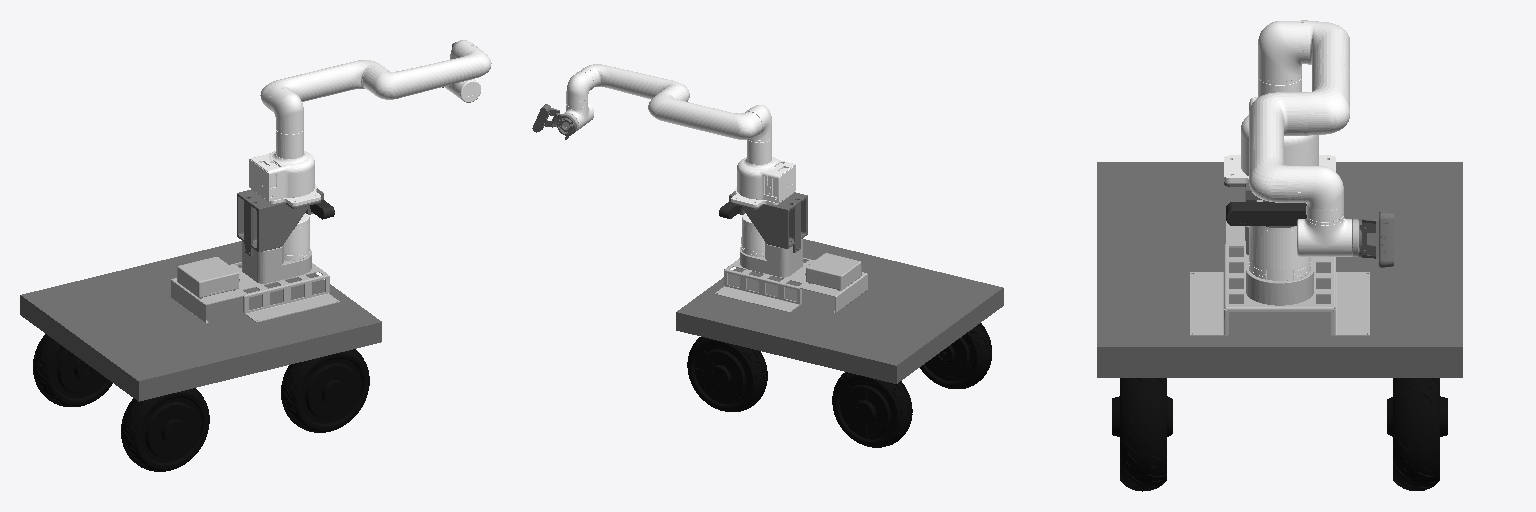
--- Render facts (derived) ---
The picture shows the robot from 3 angles, left to right: view 1: azimuth 30°, elevation 25°; view 2: azimuth 150°, elevation 25°; view 3: azimuth 270°, elevation 25°; orthographic projection.
Robot: airsbot2 — 51 links, 50 joints (12 revolute, 6 continuous, 32 fixed); root link base_footprint; default pose: all joints at 0.
Visible links, largest first — view 1: base_link, carrier_link, right_back_driven_wheel_link, right_front_driven_wheel_link, base, left_back_driven_wheel_link, link3, manipulator_base_link, link2, link1, lidar_link, link5; view 2: base_link, carrier_link, left_back_driven_wheel_link, left_front_driven_wheel_link, base, right_back_driven_wheel_link, link2, manipulator_base_link, link3, link4, lidar_link, link1; view 3: base_link, carrier_link, right_front_driven_wheel_link, left_front_driven_wheel_link, link3, link2, link1, lidar_link, base, link4, link5, zed2_camera_link (+2 smaller).
Link boxes in pixels (left/top/right/bottom): base_link: left=20, top=241, right=381, bottom=401; carrier_link: left=171, top=241, right=339, bottom=323; right_back_driven_wheel_link: left=121, top=388, right=209, bottom=471; right_front_driven_wheel_link: left=281, top=349, right=369, bottom=432; base: left=249, top=130, right=320, bottom=205; left_back_driven_wheel_link: left=33, top=334, right=112, bottom=406; link3: left=363, top=46, right=491, bottom=99; manipulator_base_link: left=237, top=188, right=323, bottom=256; link2: left=260, top=60, right=379, bottom=111; link1: left=269, top=87, right=303, bottom=134; lidar_link: left=284, top=213, right=309, bottom=260; link5: left=445, top=79, right=480, bottom=102; base_link: left=676, top=239, right=1003, bottom=383; carrier_link: left=715, top=239, right=867, bottom=312; left_back_driven_wheel_link: left=832, top=372, right=912, bottom=447; left_front_driven_wheel_link: left=687, top=337, right=767, bottom=411; base: left=731, top=139, right=795, bottom=206; right_back_driven_wheel_link: left=920, top=323, right=991, bottom=388; link2: left=648, top=91, right=761, bottom=139; manipulator_base_link: left=729, top=191, right=807, bottom=252; link3: left=581, top=64, right=689, bottom=101; link4: left=566, top=71, right=593, bottom=107; lidar_link: left=741, top=213, right=764, bottom=256; link1: left=745, top=105, right=771, bottom=142; base_link: left=1097, top=162, right=1462, bottom=377; carrier_link: left=1190, top=188, right=1369, bottom=335; right_front_driven_wheel_link: left=1112, top=378, right=1172, bottom=491; left_front_driven_wheel_link: left=1387, top=378, right=1447, bottom=490; link3: left=1249, top=92, right=1307, bottom=202; link2: left=1308, top=21, right=1349, bottom=135; link1: left=1258, top=20, right=1307, bottom=84; lidar_link: left=1249, top=226, right=1310, bottom=280; base: left=1224, top=78, right=1335, bottom=182; link4: left=1301, top=166, right=1343, bottom=221; link5: left=1297, top=216, right=1351, bottom=256; zed2_camera_link: left=1226, top=202, right=1306, bottom=225.
Size in the robot's own frame: 1.22 by 0.588 by 0.8291 metres.
Meshes: 21 distinct files referenced, 17 mesh visuals loaded (14 binary STL); not drawn: 7 (reference not matched to a file when rendering).

robot.urdf — airsbot2:
<?xml version="1.0" ?>
<!-- =================================================================================== -->
<!-- |    This document was autogenerated by xacro from airsbot2.urdf.xacro            | -->
<!-- |    EDITING THIS FILE BY HAND IS NOT RECOMMENDED                                 | -->
<!-- =================================================================================== -->
<robot name="airsbot2">
  <material name="black">
    <color rgba="0.0 0.0 0.0 1.0"/>
  </material>
  <material name="dark">
    <color rgba="0.3 0.3 0.3 1.0"/>
  </material>
  <material name="light_black">
    <color rgba="0.4 0.4 0.4 1.0"/>
  </material>
  <material name="blue">
    <color rgba="0.0 0.0 0.8 1.0"/>
  </material>
  <material name="green">
    <color rgba="0.0 0.8 0.0 1.0"/>
  </material>
  <material name="grey">
    <color rgba="0.5 0.5 0.5 1.0"/>
  </material>
  <material name="orange">
    <color rgba="1.0 0.4235 0.0392 1.0"/>
  </material>
  <material name="brown">
    <color rgba="0.8706 0.8118 0.7647 1.0"/>
  </material>
  <material name="red">
    <color rgba="0.8 0.0 0.0 1.0"/>
  </material>
  <material name="white">
    <color rgba="1.0 1.0 1.0 1.0"/>
  </material>
  <material name="zed2_mat">
    <color rgba="0.25 0.25 0.25 1.0"/>
  </material>
  <material name="zed2i_mat">
    <color rgba="0.25 0.25 0.25 1.0"/>
  </material>
  <material name="virtual_mat">
    <color rgba="0.25 0.25 0.25 1.0"/>
  </material>
  <material name="aluminum">
    <color rgba="0.5 0.5 0.5 1"/>
  </material>
  <material name="silver">
    <color rgba="0.8 0.8 0.8 1.0"/>
  </material>
  <material name="tire">
    <color rgba="0.1 0.1 0.1 1.0"/>
  </material>
  <link name="base_footprint"/>
  <joint name="base_joint" type="fixed">
    <parent link="base_footprint"/>
    <child link="base_link"/>
    <origin rpy="0.0 0.0 0.0" xyz="0.0 0.0 0.309"/>
  </joint>
  <link name="base_link">
    <visual>
      <origin rpy="0.0 0.0 0.0" xyz="0.0 0.0 -0.03"/>
      <geometry>
        <box size="0.7 0.588 0.056"/>
      </geometry>
      <material name="grey"/>
    </visual>
    <collision>
      <origin rpy="0.0 0.0 0.0" xyz="0.0 0.0 -0.03"/>
      <geometry>
        <box size="0.7 0.588 0.056"/>
      </geometry>
    </collision>
    <inertial>
      <origin rpy="0.0 0.0 0.0" xyz="0.0 0.0 -0.030"/>
      <mass value="30.0"/>
      <inertia ixx="7.8" ixy="0.0" ixz="0.0" iyy="7.8" iyz="0.0" izz="7.8"/>
    </inertial>
  </link>
  <joint name="left_front_driven_wheel_joint" type="continuous">
    <parent link="base_link"/>
    <child link="left_front_driven_wheel_link"/>
    <origin rpy="-1.5707963267948966 0.0 0.0" xyz="0.23 0.219 -0.182"/>
    <axis xyz="0.0 0.0 1.0"/>
    <limit effort="25.0" lower="-1e+16" upper="1e+16" velocity="75.36"/>
    <joint_properties damping="30.0" friction="110.0"/>
  </joint>
  <link name="left_front_driven_wheel_link">
    <visual>
      <origin rpy="0.0 0.0 0.0" xyz="0.0 0.0 0.0"/>
      <geometry>
        <mesh filename="package://airship_description/urdf/meshes/wheel.stl" scale="0.001 0.001 0.001"/>
      </geometry>
      <material name="tire"/>
    </visual>
    <collision>
      <origin rpy="0.0 0.0 0.0" xyz="0.0 0.0 0.0"/>
      <geometry>
        <cylinder length="0.075" radius="0.120"/>
      </geometry>
    </collision>
    <inertial>
      <origin xyz="0.0 0.0 0.0"/>
      <mass value="7.15"/>
      <inertia ixx="0.11042056" ixy="0.0" ixz="0.0" iyy="0.11042056" iyz="0.0" izz="0.11042056"/>
    </inertial>
  </link>
  <joint name="left_back_driven_wheel_joint" type="continuous">
    <parent link="base_link"/>
    <child link="left_back_driven_wheel_link"/>
    <origin rpy="-1.5707963267948966 0.0 0.0" xyz="-0.23 0.219 -0.182"/>
    <axis xyz="0.0 0.0 1.0"/>
    <limit effort="25.0" lower="-1e+16" upper="1e+16" velocity="75.36"/>
    <joint_properties damping="30.0" friction="110.0"/>
  </joint>
  <link name="left_back_driven_wheel_link">
    <visual>
      <origin rpy="0.0 0.0 0.0" xyz="0.0 0.0 0.0"/>
      <geometry>
        <mesh filename="package://airship_description/urdf/meshes/wheel.stl" scale="0.001 0.001 0.001"/>
      </geometry>
      <material name="tire"/>
    </visual>
    <collision>
      <origin rpy="0.0 0.0 0.0" xyz="0.0 0.0 0.0"/>
      <geometry>
        <cylinder length="0.075" radius="0.120"/>
      </geometry>
    </collision>
    <inertial>
      <origin xyz="0.0 0.0 0.0"/>
      <mass value="7.15"/>
      <inertia ixx="0.11042056" ixy="0.0" ixz="0.0" iyy="0.11042056" iyz="0.0" izz="0.11042056"/>
    </inertial>
  </link>
  <joint name="right_front_driven_wheel_joint" type="continuous">
    <parent link="base_link"/>
    <child link="right_front_driven_wheel_link"/>
    <origin rpy="-1.5707963267948966 0.0 0.0" xyz="0.23 -0.219 -0.182"/>
    <axis xyz="0.0 0.0 1.0"/>
    <limit effort="25.0" lower="-1e+16" upper="1e+16" velocity="75.36"/>
    <joint_properties damping="30.0" friction="110.0"/>
  </joint>
  <link name="right_front_driven_wheel_link">
    <visual>
      <origin rpy="0.0 3.141592653589793 0.0" xyz="0.0 0.0 0.0"/>
      <geometry>
        <mesh filename="package://airship_description/urdf/meshes/wheel.stl" scale="0.001 0.001 0.001"/>
      </geometry>
      <material name="tire"/>
    </visual>
    <collision>
      <origin rpy="0.0 0.0 0.0" xyz="0.0 0.0 0.0"/>
      <geometry>
        <cylinder length="0.075" radius="0.120"/>
      </geometry>
    </collision>
    <inertial>
      <origin xyz="0.0 0.0 0.0"/>
      <mass value="7.15"/>
      <inertia ixx="0.11042056" ixy="0.0" ixz="0.0" iyy="0.11042056" iyz="0.0" izz="0.11042056"/>
    </inertial>
  </link>
  <joint name="right_back_driven_wheel_joint" type="continuous">
    <parent link="base_link"/>
    <child link="right_back_driven_wheel_link"/>
    <origin rpy="-1.5707963267948966 0.0 0.0" xyz="-0.23 -0.219 -0.182"/>
    <axis xyz="0.0 0.0 1.0"/>
    <limit effort="25.0" lower="-1e+16" upper="1e+16" velocity="75.36"/>
    <joint_properties damping="30.0" friction="110.0"/>
  </joint>
  <link name="right_back_driven_wheel_link">
    <visual>
      <origin rpy="0.0 3.141592653589793 0.0" xyz="0.0 0.0 0.0"/>
      <geometry>
        <mesh filename="package://airship_description/urdf/meshes/wheel.stl" scale="0.001 0.001 0.001"/>
      </geometry>
      <material name="tire"/>
    </visual>
    <collision>
      <origin rpy="0.0 0.0 0.0" xyz="0.0 0.0 0.0"/>
      <geometry>
        <cylinder length="0.075" radius="0.120"/>
      </geometry>
    </collision>
    <inertial>
      <origin xyz="0.0 0.0 0.0"/>
      <mass value="7.15"/>
      <inertia ixx="0.11042056" ixy="0.0" ixz="0.0" iyy="0.11042056" iyz="0.0" izz="0.11042056"/>
    </inertial>
  </link>
  <joint name="right_driving_wheel_joint" type="continuous">
    <parent link="base_link"/>
    <child link="right_driving_wheel_link"/>
    <origin rpy="-1.5707963267948966 0.0 0.0" xyz="0.0 -0.219 -0.182"/>
    <axis xyz="0.0 0.0 1.0"/>
    <limit effort="25.0" lower="-1e+16" upper="1e+16" velocity="75.36"/>
    <joint_properties damping="30.0" friction="110.0"/>
  </joint>
  <link name="right_driving_wheel_link">
    <collision>
      <origin rpy="0.0 0.0 0.0" xyz="0.0 0.0 0.0"/>
      <geometry>
        <cylinder length="0.075" radius="0.1205"/>
      </geometry>
    </collision>
    <inertial>
      <origin xyz="0.0 0.0 0.0"/>
      <mass value="7.15"/>
      <inertia ixx="0.11042056" ixy="0.0" ixz="0.0" iyy="0.11042056" iyz="0.0" izz="0.11042056"/>
    </inertial>
  </link>
  <joint name="left_driving_wheel_joint" type="continuous">
    <parent link="base_link"/>
    <child link="left_driving_wheel_link"/>
    <origin rpy="-1.5707963267948966 0.0 0.0" xyz="0.0 0.219 -0.182"/>
    <axis xyz="0.0 0.0 1.0"/>
    <limit effort="25.0" lower="-1e+16" upper="1e+16" velocity="75.36"/>
    <joint_properties damping="30.0" friction="110.0"/>
  </joint>
  <link name="left_driving_wheel_link">
    <collision>
      <origin rpy="0.0 0.0 0.0" xyz="0.0 0.0 0.0"/>
      <geometry>
        <cylinder length="0.075" radius="0.1205"/>
      </geometry>
    </collision>
    <inertial>
      <origin xyz="0.0 0.0 0.0"/>
      <mass value="7.15"/>
      <inertia ixx="0.11042056" ixy="0.0" ixz="0.0" iyy="0.11042056" iyz="0.0" izz="0.11042056"/>
    </inertial>
  </link>
  <joint name="imu_joint" type="fixed">
    <parent link="base_link"/>
    <child link="imu_link"/>
    <origin rpy="0.0 0.0 0.0" xyz="0.255 0.0 0.033"/>
  </joint>
  <link name="imu_link"/>
  <joint name="lidar_joint" type="fixed">
    <parent link="base_link"/>
    <child link="lidar_link"/>
    <origin rpy="0.0 0.0 0.0" xyz="0.255 0.0 0.156"/>
  </joint>
  <link name="lidar_link">
    <visual>
      <origin rpy="0.0 0.0 0.0" xyz="0.0 0.0 0.0"/>
      <geometry>
        <mesh filename="package://airship_description/urdf/meshes/Helios_Lede_20220314.stl" scale="0.001 0.001 0.001"/>
      </geometry>
      <material name="white"/>
    </visual>
    <collision>
      <origin rpy="0.0 0.0 0.0" xyz="0.0 0.0 0.0"/>
      <geometry>
        <mesh filename="package://airship_description/urdf/meshes/Helios_Lede_20220314.stl" scale="0.001 0.001 0.001"/>
      </geometry>
    </collision>
    <inertial>
      <origin xyz="0.0 0.0 0.0"/>
      <mass value="0.5"/>
      <inertia ixx="0.11042056" ixy="0.0" ixz="0.0" iyy="0.11042056" iyz="0.0" izz="0.11042056"/>
    </inertial>
  </link>
  <joint name="lidar_optical_joint" type="fixed">
    <parent link="lidar_link"/>
    <child link="rslidar"/>
    <origin rpy="0.0 0.0 0.0" xyz="0.0 0.0 0.0"/>
  </joint>
  <link name="rslidar"/>
  <link name="front_camera_link"/>
  <joint name="zed_camera_joint" type="fixed">
    <parent link="base_link"/>
    <child link="front_camera_link"/>
    <origin rpy="0.0 0.0 0.0" xyz="0.320 0.0 0.203"/>
  </joint>
  <joint name="zed2_camera_joint" type="fixed">
    <origin rpy="0 0 0" xyz="0 0 0"/>
    <parent link="front_camera_link"/>
    <child link="zed2_camera_link"/>
  </joint>
  <!-- Camera mounting point (the threaded screw hole in the bottom) -->
  <link name="zed2_camera_link">
    <visual>
      <origin rpy="0 0 0" xyz="0 0 0"/>
      <geometry>
        <mesh filename="package://airship_description/urdf/meshes/ZED2.stl" scale="0.001 0.001 0.001"/>
      </geometry>
      <material name="zed2_mat"/>
    </visual>
    <inertial>
      <mass value="0.0564"/>
      <origin xyz="0 0 0"/>
      <inertia ixx="0.003881243" ixy="0.0" ixz="0.0" iyy="0.000498940" iyz="0.0" izz="0.003879257"/>
    </inertial>
  </link>
  <!-- Camera Center -->
  <link name="zed2_camera_center">
    </link>
  <joint name="zed2_camera_center_joint" type="fixed">
    <parent link="zed2_camera_link"/>
    <child link="zed2_camera_center"/>
    <origin rpy="0 0.05 0" xyz="0 0 0.015"/>
  </joint>
  <!-- Left Camera -->
  <link name="zed2_left_camera_frame">
    </link>
  <joint name="zed2_left_camera_joint" type="fixed">
    <parent link="zed2_camera_center"/>
    <child link="zed2_left_camera_frame"/>
    <origin rpy="0 0 0" xyz="-0.01 0.06 0"/>
  </joint>
  <link name="zed2_left_camera_optical_frame"/>
  <joint name="zed2_left_camera_optical_joint" type="fixed">
    <origin rpy="-1.5707963267948966 0.0 -1.5707963267948966" xyz="0 0 0"/>
    <parent link="zed2_left_camera_frame"/>
    <child link="zed2_left_camera_optical_frame"/>
  </joint>
  <!-- Right Camera -->
  <link name="zed2_right_camera_frame">
    </link>
  <joint name="zed2_right_camera_joint" type="fixed">
    <parent link="zed2_camera_center"/>
    <child link="zed2_right_camera_frame"/>
    <origin rpy="0 0 0" xyz="-0.01 -0.06 0"/>
  </joint>
  <link name="zed2_right_camera_optical_frame"/>
  <joint name="zed2_right_camera_optical_joint" type="fixed">
    <origin rpy="-1.5707963267948966 0.0 -1.5707963267948966" xyz="0 0 0"/>
    <parent link="zed2_right_camera_frame"/>
    <child link="zed2_right_camera_optical_frame"/>
  </joint>
  <link name="zed2_mag_link"/>
  <joint name="zed2_mag_joint" type="fixed">
    <parent link="zed2_camera_center"/>
    <child link="zed2_mag_link"/>
    <origin rpy="0 0 0" xyz="0 0 0"/>
  </joint>
  <link name="zed2_baro_link"/>
  <joint name="zed2_baro_joint" type="fixed">
    <parent link="zed2_camera_center"/>
    <child link="zed2_baro_link"/>
    <origin rpy="0 0 0" xyz="0 0 0"/>
  </joint>
  <link name="zed2_temp_left_link"/>
  <joint name="zed2_temp_left_joint" type="fixed">
    <parent link="zed2_left_camera_frame"/>
    <child link="zed2_temp_left_link"/>
    <origin rpy="0 0 0" xyz="0 0 0"/>
  </joint>
  <link name="zed2_temp_right_link"/>
  <joint name="zed2_temp_right_joint" type="fixed">
    <parent link="zed2_right_camera_frame"/>
    <child link="zed2_temp_right_link"/>
    <origin rpy="0 0 0" xyz="0 0 0"/>
  </joint>
  <joint name="carrier_joint" type="fixed">
    <parent link="base_link"/>
    <child link="carrier_link"/>
    <origin rpy="0.0 0.0 0.0" xyz="0.255 0.0 0.033"/>
  </joint>
  <link name="carrier_link">
    <visual>
      <origin rpy="0.0 0.0 0.0" xyz="0.0 0.0 0.0"/>
      <geometry>
        <mesh filename="package://airship_description/urdf/meshes/carrier.stl" scale="0.001 0.001 0.001"/>
      </geometry>
      <material name="silver"/>
    </visual>
    <collision>
      <origin rpy="0.0 0.0 0.0" xyz="0.0 0.0 0.0"/>
      <geometry>
        <mesh filename="package://airship_description/urdf/meshes/carrier.stl" scale="0.001 0.001 0.001"/>
      </geometry>
    </collision>
    <inertial>
      <origin xyz="0.0 0.0 0.0"/>
      <mass value="0.1"/>
      <inertia ixx="0.11042056" ixy="0.0" ixz="0.0" iyy="0.11042056" iyz="0.0" izz="0.11042056"/>
    </inertial>
  </link>
  <joint name="manipulator_base_joint" type="fixed">
    <parent link="base_link"/>
    <child link="manipulator_base_link"/>
    <origin rpy="0.0 0.0 0.0" xyz="0.255 0.0 0.262"/>
  </joint>
  <link name="manipulator_base_link">
    <visual>
      <origin rpy="0.0 0.0 0.0" xyz="0.0 0.0 0.0"/>
      <geometry>
        <mesh filename="package://airship_description/urdf/meshes/manipulator_base.stl" scale="0.001 0.001 0.001"/>
      </geometry>
      <material name="grey"/>
    </visual>
    <collision>
      <origin rpy="0.0 0.0 0.0" xyz="0.0 0.0 0.0"/>
      <geometry>
        <mesh filename="package://airship_description/urdf/meshes/manipulator_base.stl" scale="0.001 0.001 0.001"/>
      </geometry>
    </collision>
    <inertial>
      <origin xyz="0.0 0.0 0.0"/>
      <mass value="0.1"/>
      <inertia ixx="0.11042056" ixy="0.0" ixz="0.0" iyy="0.11042056" iyz="0.0" izz="0.11042056"/>
    </inertial>
  </link>
  <link name="base">
    <visual>
      <geometry>
        <mesh filename="package://airship_description/urdf/meshes//arm_base.stl" scale="0.001 0.001 0.001"/>
      </geometry>
      <origin rpy="1.5707963267948966 0.0 0.0" xyz="0.0 0.0 0.0"/>
      <material name="white"/>
    </visual>
    <collision>
      <geometry>
        <mesh filename="package://airship_description/urdf/meshes//arm_base.stl" scale="0.001 0.001 0.001"/>
      </geometry>
      <origin rpy="1.5707963267948966 0.0 0.0" xyz="0.0 0.0 0.0"/>
    </collision>
    <inertial>
      <origin rpy="0.0 0.0 0.0" xyz="0.0 0.0 0.050"/>
      <mass value="0.01"/>
      <inertia ixx="7.8" ixy="0.0" ixz="0.0" iyy="7.8" iyz="0.0" izz="7.8"/>
    </inertial>
  </link>
  <joint name="joint_base_to_manipulator_base_link" type="fixed">
    <parent link="manipulator_base_link"/>
    <child link="base"/>
    <origin rpy="0.0 0.0 0.0" xyz="0.0 0.0 0.0"/>
  </joint>
  <!-- Link 1 -->
  <link name="link1">
    <visual>
      <geometry>
        <mesh filename="package://airship_description/urdf/meshes//link1.stl" scale="0.001 0.001 0.001"/>
      </geometry>
      <origin rpy="0.0 0.0 3.141592653589793" xyz="0.0 0.0 -0.06"/>
      <material name="white"/>
    </visual>
    <collision>
      <geometry>
        <mesh filename="package://airship_description/urdf/meshes//link1.stl" scale="0.001 0.001 0.001"/>
      </geometry>
      <origin rpy="0.0 0.0 3.141592653589793" xyz="0.0 0.0 -0.06"/>
    </collision>
    <inertial>
      <origin rpy="0.0 0.0 0.0" xyz="0.0 0.0 -0.115"/>
      <mass value="0.01"/>
      <inertia ixx="7.8" ixy="0.0" ixz="0.0" iyy="7.8" iyz="0.0" izz="7.8"/>
    </inertial>
  </link>
  <joint name="joint_link1_to_base" type="revolute">
    <axis xyz="0.0 0.0 1.0"/>
    <parent link="base"/>
    <child link="link1"/>
    <origin rpy="0.0 0.0 0.0" xyz="0.0 0.0 0.22934"/>
    <dynamics damping="52.0"/>
    <limit effort="1000.0" lower="-3.141592653589793" upper="3.141592653589793" velocity="0"/>
  </joint>
  <!-- Link 2 -->
  <link name="link2">
    <visual>
      <geometry>
        <mesh filename="package://airship_description/urdf/meshes//link2.stl" scale="0.001 0.001 0.001"/>
      </geometry>
      <origin rpy="0.0 -1.5707963267948966 -1.5707963267948966" xyz="0.0 0.0 -0.0446"/>
      <material name="white"/>
    </visual>
    <collision>
      <geometry>
        <mesh filename="package://airship_description/urdf/meshes//link2.stl" scale="0.001 0.001 0.001"/>
      </geometry>
      <origin rpy="0.0 -1.5707963267948966 -1.5707963267948966" xyz="0.0 0.0 -0.0446"/>
    </collision>
    <inertial>
      <origin rpy="0.0 0.0 0.0" xyz="0.0 0.0 0.0"/>
      <mass value="0.01"/>
      <inertia ixx="7.8" ixy="0.0" ixz="0.0" iyy="7.8" iyz="0.0" izz="7.8"/>
    </inertial>
  </link>
  <joint name="joint_link2_to_link1" type="revolute">
    <axis xyz="0.0 0.0 -1.0"/>
    <parent link="link1"/>
    <child link="link2"/>
    <origin rpy="1.5707963267948966 0.0 0.0" xyz="0.0 0.0 0.0"/>
    <dynamics damping="52.0"/>
    <limit effort="1000.0" lower="-4.71238898038469" upper="1.5707963267948966" velocity="0.0"/>
  </joint>
  <!-- Link 3 -->
  <link name="link3">
    <visual>
      <geometry>
        <mesh filename="package://airship_description/urdf/meshes//link3.stl" scale="0.001 0.001 0.001"/>
      </geometry>
      <origin rpy="0 1.5707963267948966 -1.5707963267948966" xyz="0.0 0.0 -0.0444"/>
      <material name="white"/>
    </visual>
    <collision>
      <geometry>
        <mesh filename="package://airship_description/urdf/meshes//link3.stl" scale="0.001 0.001 0.001"/>
      </geometry>
      <origin rpy="0.0 1.5707963267948966 -1.5707963267948966" xyz="0.0 0.0 -0.0444"/>
    </collision>
    <inertial>
      <origin rpy="0.0 0.0 0.0" xyz="-0.135 0 -0.08"/>
      <mass value="0.01"/>
      <inertia ixx="7.8" ixy="0.0" ixz="0" iyy="7.8" iyz="0.0" izz="7.8"/>
    </inertial>
  </link>
  <joint name="joint_link3_to_link2" type="revolute">
    <axis xyz="0.0 0.0 -1.0"/>
    <parent link="link2"/>
    <child link="link3"/>
    <origin rpy="0.0 0.0 0.0" xyz="0.27 0.0 0.0"/>
    <dynamics damping="52.0"/>
    <limit effort="1000.0" lower="-2.607521902479528" upper="2.607521902479528" velocity="0.0"/>
  </joint>
  <!-- Link 4 -->
  <link name="link4">
    <visual>
      <geometry>
        <mesh filename="package://airship_description/urdf/meshes//link4.stl" scale="0.001 0.001 0.001"/>
      </geometry>
      <origin rpy="-1.5707963267948966 0.0 1.5707963267948966" xyz="0.0 0.0 0.041"/>
      <material name="white"/>
    </visual>
    <collision>
      <geometry>
        <mesh filename="package://airship_description/urdf/meshes//link4.stl" scale="0.001 0.001 0.001"/>
      </geometry>
      <origin rpy="-1.5707963267948966 0.0 1.5707963267948966" xyz="0.0 0.0 0.041"/>
    </collision>
    <inertial>
      <origin rpy="0.0 0.0 0.0" xyz="-0.134 0 0.09"/>
      <mass value="0.01"/>
      <inertia ixx="7.8" ixy="0.0" ixz="0" iyy="7.8" iyz="0.0" izz="7.8"/>
    </inertial>
  </link>
  <joint name="joint_link4_to_link3" type="revolute">
    <axis xyz="0.0 0.0 -1.0"/>
    <parent link="link3"/>
    <child link="link4"/>
    <origin rpy="0.0 0.0 0.0" xyz="0.267 0.0 -0.0745"/>
    <dynamics damping="52.0"/>
    <limit effort="1000.0" lower="-4.523893421169302" upper="1.382300767579509" velocity="0.0"/>
  </joint>
  <!-- Link 5 -->
  <link name="link5">
    <visual>
      <geometry>
        <mesh filename="package://airship_description/urdf/meshes//link5.stl" scale="0.001 0.001 0.001"/>
      </geometry>
      <origin rpy="0.0 -1.5707963267948966 3.141592653589793" xyz="-0.043 0.0 0.0"/>
      <material name="white"/>
    </visual>
    <collision>
      <geometry>
        <mesh filename="package://airship_description/urdf/meshes//link5.stl" scale="0.001 0.001 0.001"/>
      </geometry>
      <origin rpy="0 -1.5707963267948966 3.141592653589793" xyz="-0.043 0.0 0.0"/>
    </collision>
    <inertial>
      <origin rpy="0.0 0.0 0.0" xyz="0.0 0.0 0.0"/>
      <mass value="0.01"/>
      <inertia ixx="7.8" ixy="0.0" ixz="0" iyy="7.8" iyz="0.0" izz="7.8"/>
    </inertial>
  </link>
  <joint name="joint_link5_to_link4" type="revolute">
    <axis xyz="0.0 0.0 1.0"/>
    <parent link="link4"/>
    <child link="link5"/>
    <origin rpy="1.5707963267948966 -1.5707963267948966 0.0" xyz="0.0 -0.095 0.002"/>
    <dynamics damping="52.0"/>
    <limit effort="1000.0" lower="-2.921681167838508" upper="2.921681167838508" velocity="0.0"/>
  </joint>
  <!-- Link 6 -->
  <link name="link6">
    <visual>
      <geometry>
        <mesh filename="package://airship_description/urdf/meshes//link6.stl" scale="0.001 0.001 0.001"/>
      </geometry>
      <origin rpy="0.0 1.5707963267948966 0.0" xyz="0.01 0.0 0.0"/>
      <material name="silver"/>
    </visual>
    <collision>
      <geometry>
        <mesh filename="package://airship_description/urdf/meshes//link6.stl" scale="0.001 0.001 0.001"/>
      </geometry>
      <origin rpy="0.0 1.5707963267948966 0.0" xyz="0.01 0.0 0.0"/>
    </collision>
    <inertial>
      <origin rpy="0.0 0.0 0.0" xyz="0.0 0.0 0.0"/>
      <mass value="0.01"/>
      <inertia ixx="7.8" ixy="0.0" ixz="0" iyy="7.8" iyz="0.0" izz="7.8"/>
    </inertial>
  </link>
  <joint name="joint_link6_to_link5" type="revolute">
    <axis xyz="-1.0 0.0 0.0"/>
    <parent link="link5"/>
    <child link="link6"/>
    <origin rpy="-1.5707963267948966 0.0 0.0" xyz="-0.054 0.0 0.0"/>
    <dynamics damping="52.0"/>
    <limit effort="1000.0" lower="-3.015928947446201" upper="3.015928947446201" velocity="0"/>
  </joint>
  <!-- ee Link -->
  <link name="ee_link"/>
  <joint name="joint_ee_link_to_link6" type="fixed">
    <parent link="link6"/>
    <child link="ee_link"/>
    <origin rpy="2.748893571891069 0 3.141592653589793" xyz="0.0 0.0 0.0"/>
  </joint>
  <joint name="gripper_joint" type="fixed">
    <parent link="ee_link"/>
    <child link="camera_support_link"/>
    <origin rpy="0.0 0.0 0.0" xyz="0.0 0.0 0.0"/>
  </joint>
  <link name="camera_support_link">
    <visual>
      <geometry>
        <mesh filename="package://airship_description/urdf/meshes/camera_base.stl" scale="0.001 0.001 0.001"/>
      </geometry>
      <origin rpy="0.0 0.0 0.0" xyz="0.0 0.0 0.0"/>
      <material name="grey"/>
    </visual>
    <collision>
      <geometry>
        <mesh filename="package://airship_description/urdf/meshes/camera_base.stl" scale="0.001 0.001 0.001"/>
      </geometry>
      <origin rpy="0.0 0.0 0.0" xyz="0.0 0.0 0.0"/>
    </collision>
    <inertial>
      <origin rpy="0.0 0.0 0.0" xyz="0.0 0.0 0.0"/>
      <mass value="0.05"/>
      <inertia ixx="7.8" ixy="0.0" ixz="0.0" iyy="7.8" iyz="0.0" izz="7.8"/>
    </inertial>
  </link>
  <link name="gripper_base">
    <visual>
      <geometry>
        <mesh filename="package://airship_description/urdf/meshes/gripper_base.stl" scale="0.001 0.001 0.001"/>
      </geometry>
      <origin rpy="0.0 0.0 1.5707963267948966" xyz="-0.02 0.012 -0.018"/>
      <material name="white"/>
    </visual>
    <collision>
      <geometry>
        <mesh filename="package://airship_description/urdf/meshes/gripper_base.stl" scale="0.001 0.001 0.001"/>
      </geometry>
      <origin rpy="0.0 0.0 1.5707963267948966" xyz="-0.02 0.012 -0.018"/>
    </collision>
    <inertial>
      <origin rpy="0.0 0.0 0.0" xyz="0.0 0.0 0.0"/>
      <mass value="0.05"/>
      <inertia ixx="7.8" ixy="0.0" ixz="0.0" iyy="7.8" iyz="0.0" izz="7.8"/>
    </inertial>
  </link>
  <link name="gripper_left1">
    <visual>
      <geometry>
        <mesh filename="package://airship_description/urdf/meshes/gripper_left1.stl" scale="0.001 0.001 0.001"/>
      </geometry>
      <origin rpy="0.0 0.0 1.5707963267948966" xyz="0.036 -0.052 0.0"/>
      <material name="dark"/>
    </visual>
    <collision>
      <geometry>
        <mesh filename="package://airship_description/urdf/meshes/gripper_left1.stl" scale="0.001 0.001 0.001"/>
      </geometry>
      <origin rpy="0.0 0.0 1.5707963267948966" xyz="0.036 -0.052 0.0"/>
    </collision>
    <inertial>
      <origin rpy="0.0 0.0 0.0" xyz="0.0 0.0 0.0"/>
      <mass value="0.05"/>
      <inertia ixx="7.8" ixy="0.0" ixz="0.0" iyy="7.8" iyz="0.0" izz="7.8"/>
    </inertial>
  </link>
  <link name="gripper_left2">
    <visual>
      <geometry>
        <mesh filename="package://airship_description/urdf/meshes/gripper_left2.stl" scale="0.001 0.001 0.001"/>
      </geometry>
      <origin rpy="0.0 0.0 1.5707963267948966" xyz="0.03 0.024 -0.018"/>
      <material name="dark"/>
    </visual>
    <collision>
      <geometry>
        <mesh filename="package://airship_description/urdf/meshes/gripper_left2.stl" scale="0.001 0.001 0.001"/>
      </geometry>
      <origin rpy=" 0.0 0.0 1.5707963267948966" xyz="0.03 0.024 -0.018 "/>
    </collision>
    <inertial>
      <origin rpy="0.0 0.0 0.0" xyz="0.0 0.0 0.0"/>
      <mass value="0.05"/>
      <inertia ixx="7.8" ixy="0.0" ixz="0.0" iyy="7.8" iyz="0.0" izz="7.8"/>
    </inertial>
  </link>
  <link name="gripper_left3">
    <visual>
      <geometry>
        <mesh filename="package://airship_description/urdf/meshes/gripper_left3.stl" scale="0.001 0.001 0.001"/>
      </geometry>
      <origin rpy="0.0 3.141592653589793 -1.5707963267948966" xyz="0.034 0.0 -0.012"/>
      <material name="dark"/>
    </visual>
    <collision>
      <geometry>
        <mesh filename="package://airship_description/urdf/meshes/gripper_left3.stl" scale="0.001 0.001 0.001"/>
      </geometry>
      <origin rpy="0.0 3.141592653589793 -1.5707963267948966" xyz="0.034 0.0 -0.012"/>
    </collision>
    <inertial>
      <origin rpy="0.0 0.0 0.0" xyz="0.0 0.0 0.0"/>
      <mass value="0.05"/>
      <inertia ixx="7.8" ixy="0.0" ixz="0.0" iyy="7.8" iyz="0.0" izz="7.8"/>
    </inertial>
  </link>
  <link name="gripper_right1">
    <visual>
      <geometry>
        <mesh filename="package://airship_description/urdf/meshes/gripper_right1.stl" scale="0.001 0.001 0.001"/>
      </geometry>
      <origin rpy="0.0 0.0 1.5707963267948966" xyz="-0.072 -0.05 0.0 "/>
      <material name="dark"/>
    </visual>
    <collision>
      <geometry>
        <mesh filename="package://airship_description/urdf/meshes/gripper_right1.stl" scale="0.001 0.001 0.001"/>
      </geometry>
      <origin rpy="0.0 0.0 1.5707963267948966" xyz="-0.072 -0.05 0.0"/>
    </collision>
    <inertial>
      <origin rpy="0.0 0.0 0.0" xyz="0.0 0.0 0.0"/>
      <mass value="0.05"/>
      <inertia ixx="7.8" ixy="0.0" ixz="0.0" iyy="7.8" iyz="0.0" izz="7.8"/>
    </inertial>
  </link>
  <link name="gripper_right2">
    <visual>
      <geometry>
        <mesh filename="package://airship_description/urdf/meshes/gripper_right2.stl" scale="0.001 0.001 0.001"/>
      </geometry>
      <origin rpy="0.0 0.0 1.5707963267948966" xyz="-0.066 0.023 -0.018"/>
      <material name="dark"/>
    </visual>
    <collision>
      <geometry>
        <mesh filename="package://airship_description/urdf/meshes/gripper_right2.stl" scale="0.001 0.001 0.001"/>
      </geometry>
      <origin rpy="0.0 0.0 1.5707963267948966" xyz="-0.066 0.023 -0.018"/>
    </collision>
    <inertial>
      <origin rpy="0.0 0.0 0.0" xyz="0.0 0.0 0.0"/>
      <mass value="0.05"/>
      <inertia ixx="7.8" ixy="0.0" ixz="0.0" iyy="7.8" iyz="0.0" izz="7.8"/>
    </inertial>
  </link>
  <link name="gripper_right3">
    <visual>
      <geometry>
        <mesh filename="package://airship_description/urdf/meshes/gripper_right3.stl" scale="0.001 0.001 0.001"/>
      </geometry>
      <origin rpy="0.0 3.141592653589793 -1.5707963267948966" xyz="0.0 0.0 -0.012"/>
      <material name="dark"/>
    </visual>
    <collision>
      <geometry>
        <mesh filename="package://airship_description/urdf/meshes/gripper_right3.stl" scale="0.001 0.001 0.001"/>
      </geometry>
      <origin rpy="0.0 3.141592653589793 -1.5707963267948966" xyz="0.0 0.0 -0.012"/>
    </collision>
    <inertial>
      <origin rpy="0.0 0.0 0.0" xyz="0.0 0.0 0.0"/>
      <mass value="0.05"/>
      <inertia ixx="7.8" ixy="0.0" ixz="0.0" iyy="7.8" iyz="0.0" izz="7.8"/>
    </inertial>
  </link>
  <joint name="camera_support_to_gripper_base_joint" type="fixed">
    <origin rpy="0.0 0.0 -1.5707963267948966" xyz="0.0485 -0.002 0.007"/>
    <parent link="camera_support_link"/>
    <child link="gripper_base"/>
  </joint>
  <joint name="gripper_controller" type="revolute">
    <axis xyz="0.0 0.0 1.0"/>
    <limit effort="1000.0" lower="-0.7" upper="0.3" velocity="0.0"/>
    <parent link="gripper_base"/>
    <child link="gripper_left3"/>
    <origin rpy="0.0 0.0 0.0" xyz="-0.018 0.016 0.0"/>
  </joint>
  <joint name="gripper_base_to_gripper_left2" type="revolute">
    <axis xyz="0.0 0.0 1.0"/>
    <limit effort="1000.0" lower="-0.8" upper="0.5" velocity="0.0"/>
    <parent link="gripper_base"/>
    <child link="gripper_left2"/>
    <origin rpy="0.0 0.0 0.0" xyz="-0.05 -0.01 0"/>
    <mimic joint="gripper_controller" multiplier="1.0" offset="0.0"/>
  </joint>
  <joint name="gripper_left3_to_gripper_left1" type="revolute">
    <axis xyz="0.0 0.0 1.0"/>
    <limit effort="1000.0" lower="-0.5" upper="0.5" velocity="0.0"/>
    <parent link="gripper_left3"/>
    <child link="gripper_left1"/>
    <origin rpy="0.0 0.0 0.0" xyz="-0.0356 0.051 -0.018"/>
    <mimic joint="gripper_controller" multiplier="-1.0" offset="0.0"/>
  </joint>
  <joint name="gripper_base_to_gripper_right3" type="revolute">
    <axis xyz="0.0 0.0 1.0"/>
    <limit effort="1000.0" lower="-0.3" upper="0.7" velocity="0"/>
    <parent link="gripper_base"/>
    <child link="gripper_right3"/>
    <origin rpy="0.0 0.0 0.0" xyz="0.018 0.016 0.0"/>
    <mimic joint="gripper_controller" multiplier="-1.0" offset="0.0"/>
  </joint>
  <joint name="gripper_base_to_gripper_right2" type="revolute">
    <axis xyz="0.0 0.0 1.0"/>
    <limit effort="1000.0" lower="-0.5" upper="0.8" velocity="0.0"/>
    <parent link="gripper_base"/>
    <child link="gripper_right2"/>
    <origin rpy="0.0 0.0 0.0" xyz="0.046 -0.01 0.0"/>
    <mimic joint="gripper_controller" multiplier="-1.0" offset="0.0"/>
  </joint>
  <joint name="gripper_right3_to_gripper_right1" type="revolute">
    <axis xyz="0.0 0.0 1.0"/>
    <limit effort="1000.0" lower="-0.5" upper="0.5" velocity="0.0"/>
    <parent link="gripper_right3"/>
    <child link="gripper_right1"/>
    <origin rpy="0.0 0.0 0.0" xyz="0.033 0.051 -0.018"/>
    <mimic joint="gripper_controller" multiplier="1.0" offset="0.0"/>
  </joint>
  <link name="gripper_camera_link">
    <visual>
      <origin rpy="0.0 0.0 0.0" xyz="0.0 0.0 0.0"/>
      <geometry>
        <mesh filename="package://airship_description/urdf/meshes/IntelRealsense_D435.stl" scale="0.001 0.001 0.001"/>
      </geometry>
      <material name="aluminum"/>
    </visual>
  </link>
  <joint name="gripper_camera_joint" type="fixed">
    <parent link="camera_support_link"/>
    <child link="gripper_camera_link"/>
    <origin rpy="0.0 0.0 0.0" xyz="0.042 0 0.048"/>
  </joint>
  <!-- Camera body with origin at bottom screw mount -->
  <joint name="sensor_d435_joint" type="fixed">
    <origin rpy="0 0 0" xyz="0 0 0"/>
    <parent link="gripper_camera_link"/>
    <child link="sensor_d435_bottom_screw_frame"/>
  </joint>
  <link name="sensor_d435_bottom_screw_frame"/>
  <!-- Main camera body -->
  <joint name="sensor_d435_link_joint" type="fixed">
    <origin rpy="0 0 0" xyz="0 0.0175 0.0125"/>
    <parent link="sensor_d435_bottom_screw_frame"/>
    <child link="sensor_d435_link"/>
  </joint>
  <link name="sensor_d435_link">
    <inertial>
      <mass value="0.0564"/>
      <origin xyz="0 0 0"/>
      <inertia ixx="0.003881243" ixy="0.0" ixz="0.0" iyy="0.000498940" iyz="0.0" izz="0.003879257"/>
    </inertial>
  </link>
  <!-- Depth joint and links -->
  <joint name="sensor_d435_depth_joint" type="fixed">
    <origin rpy="0 0 0" xyz="0 0 0"/>
    <parent link="sensor_d435_link"/>
    <child link="sensor_d435_depth_frame"/>
  </joint>
  <link name="sensor_d435_depth_frame"/>
  <joint name="sensor_d435_depth_optical_joint" type="fixed">
    <origin rpy="-1.5707963267948966 0 -1.5707963267948966" xyz="0 0 0"/>
    <parent link="sensor_d435_depth_frame"/>
    <child link="sensor_d435_depth_optical_frame"/>
  </joint>
  <link name="sensor_d435_depth_optical_frame"/>
  <!-- Left IR joint and links -->
  <joint name="sensor_d435_left_ir_joint" type="fixed">
    <origin rpy="0 0 0" xyz="0 0.0 0"/>
    <parent link="sensor_d435_depth_frame"/>
    <child link="sensor_d435_left_ir_frame"/>
  </joint>
  <link name="sensor_d435_left_ir_frame"/>
  <joint name="sensor_d435_left_ir_optical_joint" type="fixed">
    <origin rpy="-1.5707963267948966 0 -1.5707963267948966" xyz="0 0 0"/>
    <parent link="sensor_d435_left_ir_frame"/>
    <child link="sensor_d435_left_ir_optical_frame"/>
  </joint>
  <link name="sensor_d435_left_ir_optical_frame"/>
  <!-- Right IR joint and links -->
  <joint name="sensor_d435_right_ir_joint" type="fixed">
    <origin rpy="0 0 0" xyz="0 -0.05 0"/>
    <parent link="sensor_d435_depth_frame"/>
    <child link="sensor_d435_right_ir_frame"/>
  </joint>
  <link name="sensor_d435_right_ir_frame"/>
  <joint name="sensor_d435_right_ir_optical_joint" type="fixed">
    <origin rpy="-1.5707963267948966 0 -1.5707963267948966" xyz="0 0 0"/>
    <parent link="sensor_d435_right_ir_frame"/>
    <child link="sensor_d435_right_ir_optical_frame"/>
  </joint>
  <link name="sensor_d435_right_ir_optical_frame"/>
  <!-- Color joint and links -->
  <joint name="sensor_d435_color_joint" type="fixed">
    <origin rpy="0 0 0" xyz="0 0.015 0"/>
    <parent link="sensor_d435_depth_frame"/>
    <child link="sensor_d435_color_frame"/>
  </joint>
  <link name="sensor_d435_color_frame"/>
  <joint name="sensor_d435_color_optical_joint" type="fixed">
    <origin rpy="-1.5707963267948966 0 -1.5707963267948966" xyz="0 0 0"/>
    <parent link="sensor_d435_color_frame"/>
    <child link="sensor_d435_color_optical_frame"/>
  </joint>
  <link name="sensor_d435_color_optical_frame"/>
</robot>
